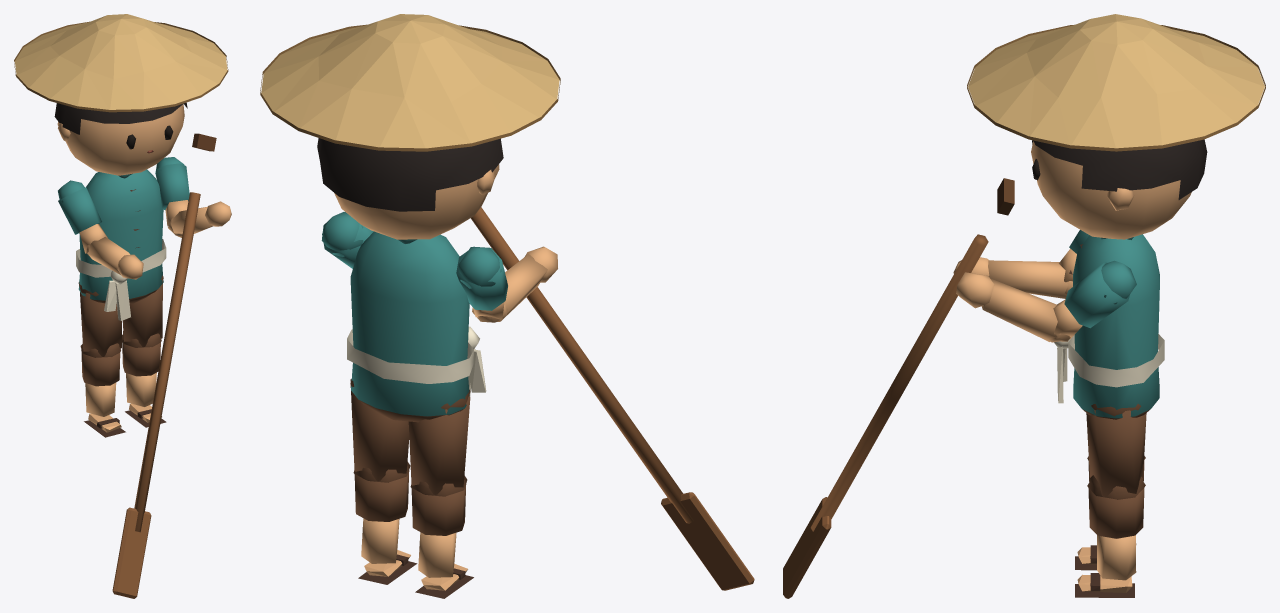
File: west_paddle_man.glb
3 renders of one model, left to right at view 1: azimuth 30°, elevation 25°; view 2: azimuth 150°, elevation 25°; view 3: azimuth 270°, elevation 25°, orthographic. The views are drawn at different scales.
Visible parts, largest first — view 1: head, body, prop_paddle, shin_R, shin_L, leg_R, arm_R, leg_L, arm_L, forearm_R, forearm_L; view 2: head, body, prop_paddle, shin_R, shin_L, leg_R, leg_L, arm_R, forearm_R, arm_L; view 3: head, body, prop_paddle, shin_L, leg_L, arm_L, forearm_L, forearm_R.
Boxes of the visible parts, box(x1,y1,x2,y2) form: head: box(14, 14, 228, 175); body: box(76, 169, 166, 320); prop_paddle: box(112, 133, 216, 598); shin_R: box(81, 343, 125, 437); shin_L: box(122, 331, 166, 427); leg_R: box(78, 282, 121, 357); arm_R: box(58, 180, 108, 255); leg_L: box(122, 275, 163, 347); arm_L: box(155, 157, 189, 237); forearm_R: box(86, 237, 143, 279); forearm_L: box(170, 201, 231, 237); head: box(260, 14, 560, 239); body: box(347, 231, 486, 422); prop_paddle: box(471, 207, 754, 590); shin_R: box(411, 476, 473, 598); shin_L: box(354, 462, 417, 584); leg_R: box(408, 389, 470, 496); leg_L: box(350, 379, 410, 482); arm_R: box(456, 246, 507, 322); forearm_R: box(478, 246, 557, 321); arm_L: box(321, 212, 373, 268); head: box(967, 14, 1265, 239); body: box(1054, 234, 1164, 419); prop_paddle: box(783, 178, 1014, 598); shin_L: box(1075, 475, 1144, 597); leg_L: box(1086, 404, 1146, 499); arm_L: box(1053, 260, 1136, 341); forearm_L: box(956, 272, 1070, 342); forearm_R: box(953, 257, 1071, 298).
Size of the model in its own units: 0.9209 by 1.87 by 1.26.
